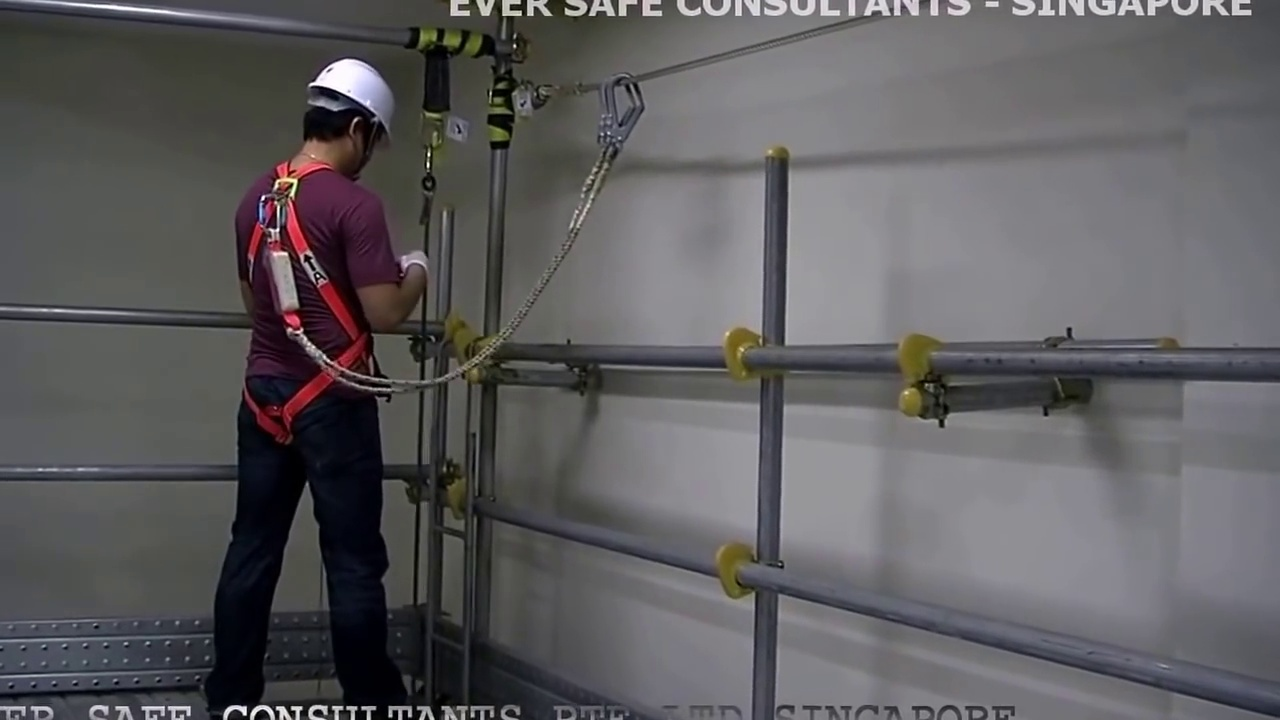harness: (242, 161, 353, 451)
helmet: (299, 53, 395, 128)
hook: (590, 73, 649, 154)
leash: (438, 174, 604, 392)
